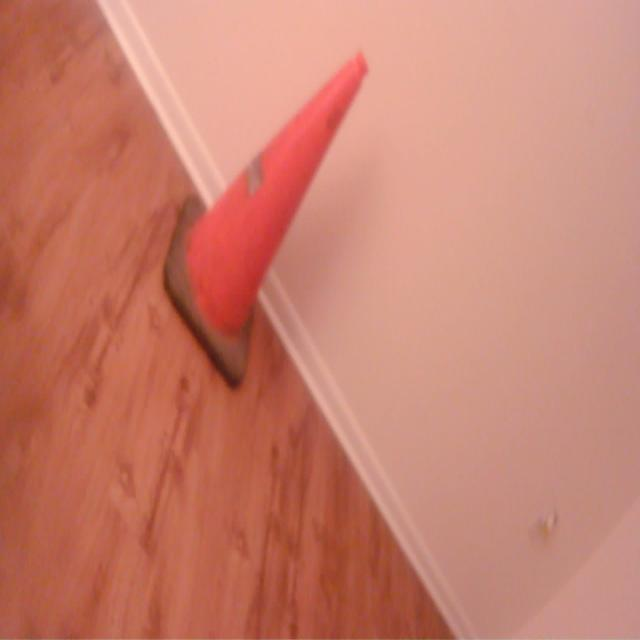traffic cone: (160, 47, 372, 395)
